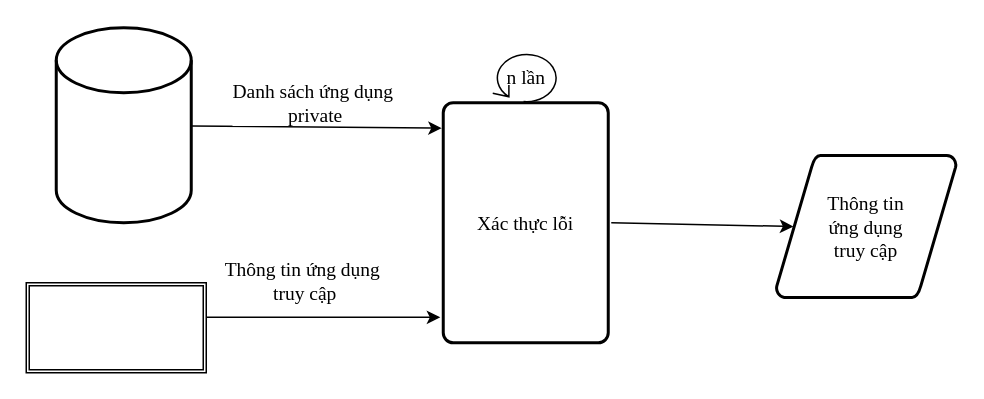
The diagram is 984 pixels wide and 399 high, and some of its shapes have lost their labels. Here are the shapes that lost their labels. From the top down, the box of each, then its label:
(54, 26, 192, 224): CSDL ứng dụng private
(25, 281, 206, 373): Ứng dụng truy cập
